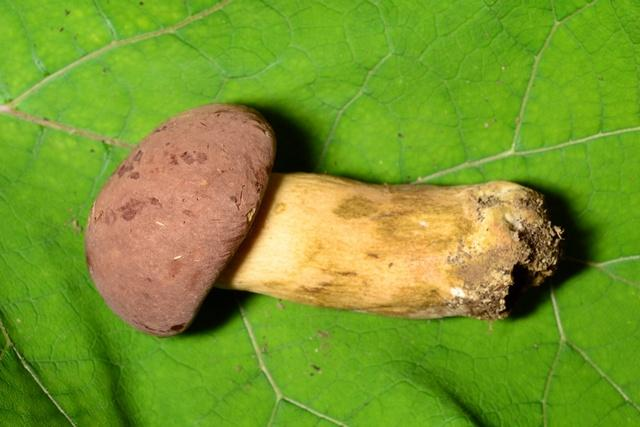poisonous_mushroom: (82, 101, 565, 336)
